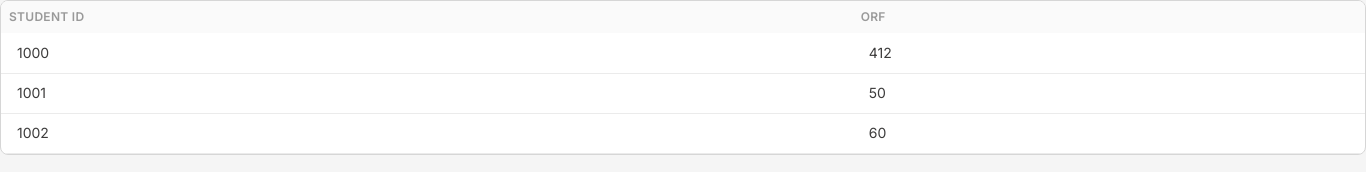
Test: DataGrid › cancels an edit on Escape without committing
Click the button named "ORF, row 2: 50" at (877, 92), box [861, 79, 1357, 107]
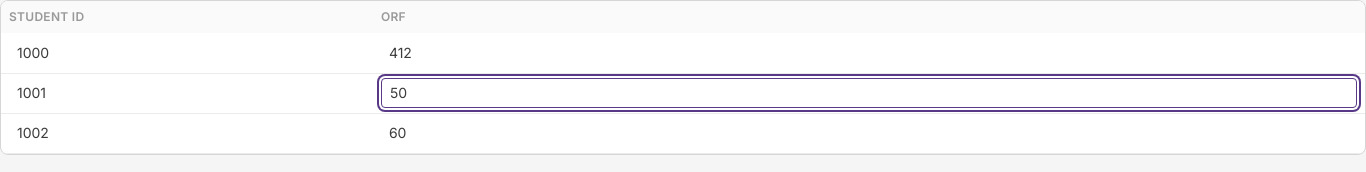
Replace the text in the field named "Edit ORF, row 2" with "999" at (869, 93), box [381, 78, 1357, 108]
Then press Escape
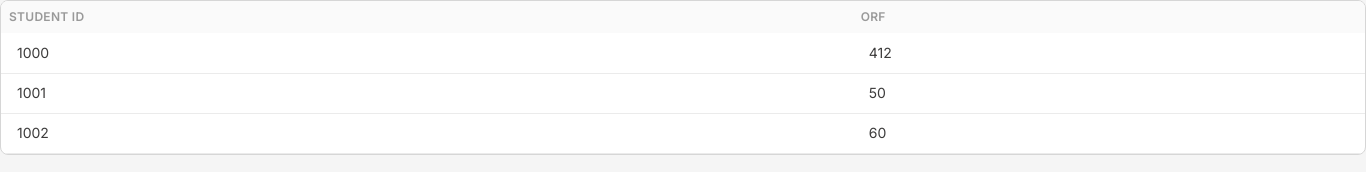
Expected: the button named "ORF, row 2: 50" is shown, [861, 79, 1357, 107]
